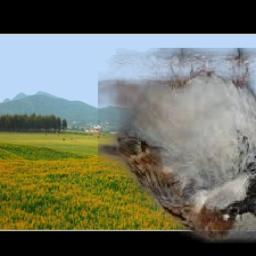Sparrow: (97, 49, 256, 244)
